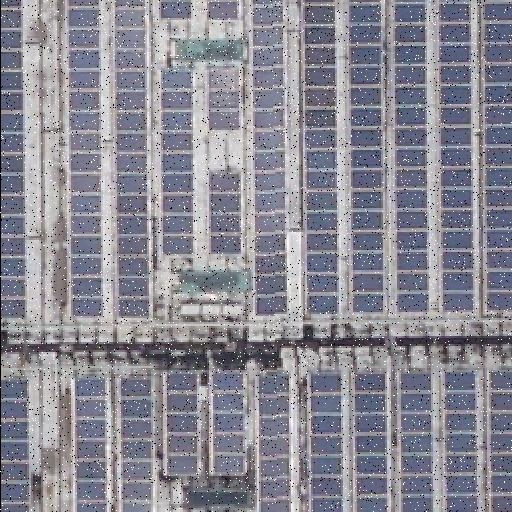solar-panel: (299, 0, 341, 320), (343, 1, 385, 319), (387, 1, 429, 319), (64, 0, 104, 320), (434, 0, 474, 316), (113, 0, 151, 320), (250, 0, 286, 320), (480, 0, 512, 316), (0, 0, 28, 320), (159, 65, 193, 255), (393, 368, 431, 512), (352, 368, 388, 512), (73, 376, 111, 512), (306, 369, 342, 511), (443, 368, 477, 512), (255, 369, 289, 511), (119, 372, 153, 512), (0, 377, 32, 511), (165, 372, 203, 476), (210, 372, 246, 476), (486, 368, 512, 512), (210, 170, 242, 254), (208, 64, 240, 132), (160, 1, 192, 23), (207, 0, 241, 20)
